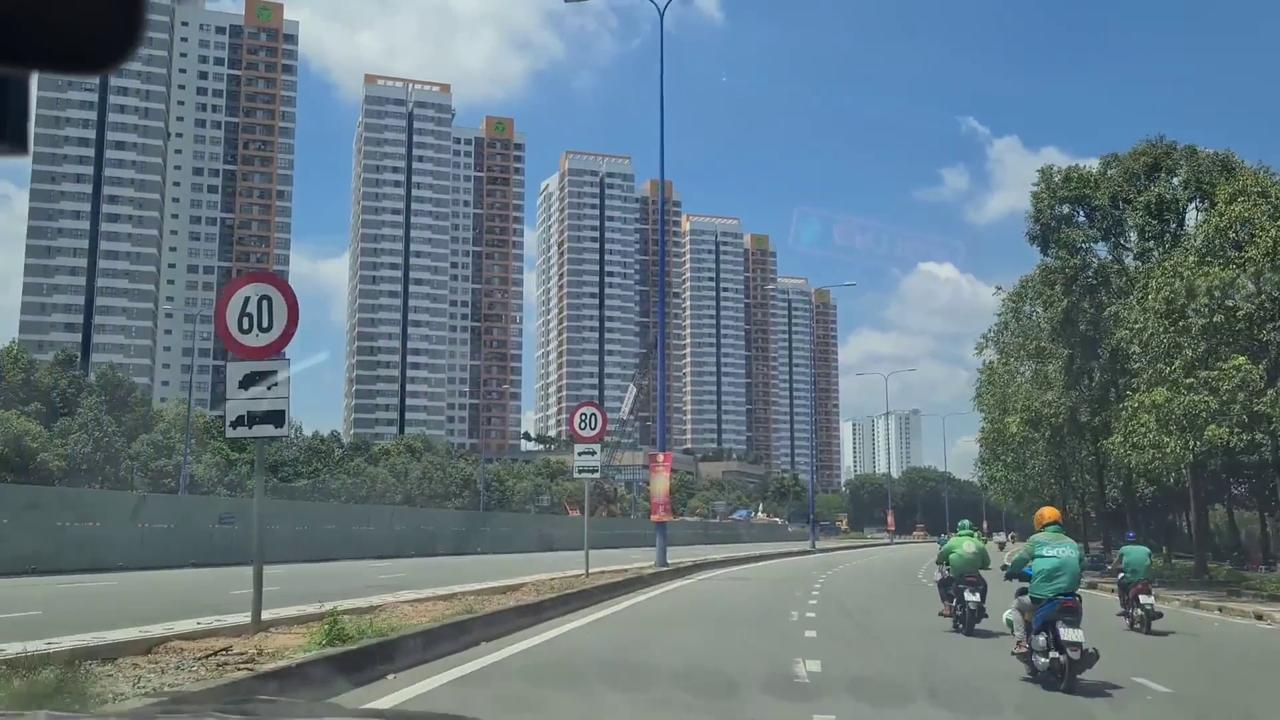Biển phụ: (221, 358, 292, 439), (572, 443, 602, 480)
GIơi hạn tốc độ 60Km/h: (213, 270, 302, 362)
Giới hạn tốc độ 80Km/h: (569, 400, 608, 443)
